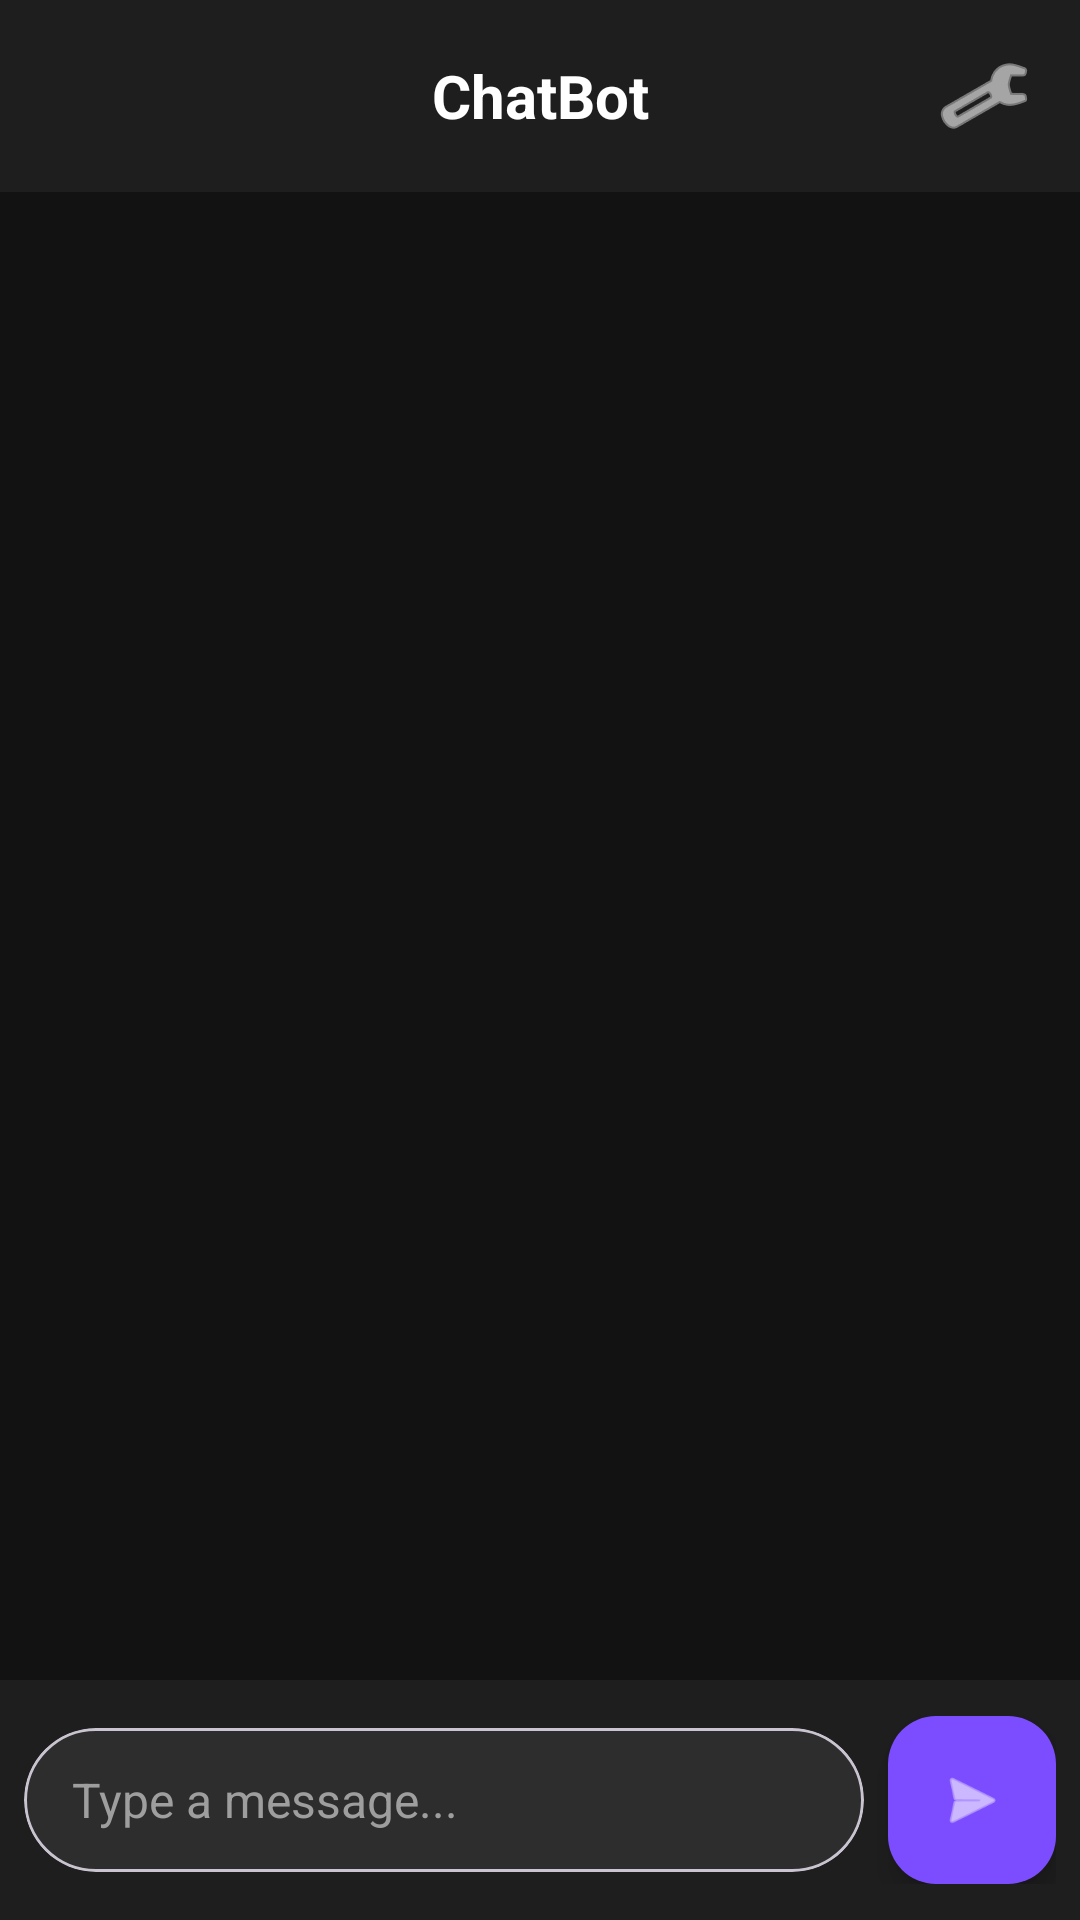

Locate icon controls on the screen. Image size 1080 × 1920, boxes as (x1, y1, x2, y2).
Send message: (888, 1716, 1056, 1884)
Settings: (941, 63, 1027, 129)
